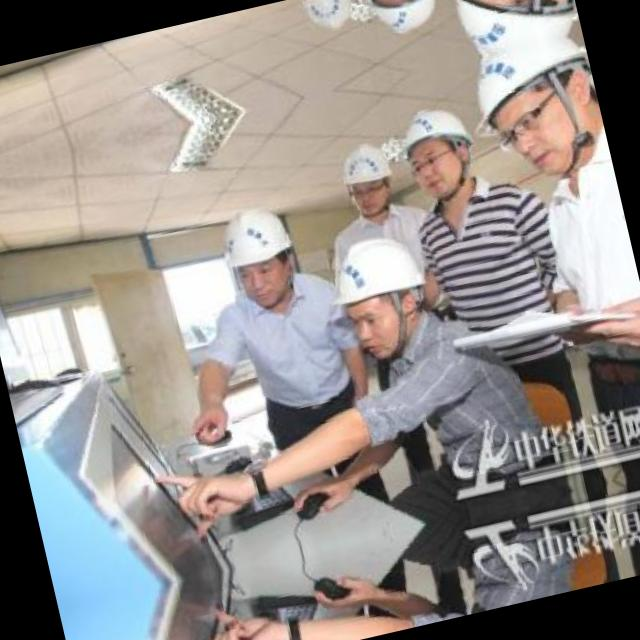helmet: (438, 31, 612, 209), (313, 212, 458, 362), (207, 192, 311, 315), (388, 93, 489, 211), (416, 0, 580, 65), (328, 136, 402, 222), (358, 0, 452, 44), (293, 0, 360, 36)
